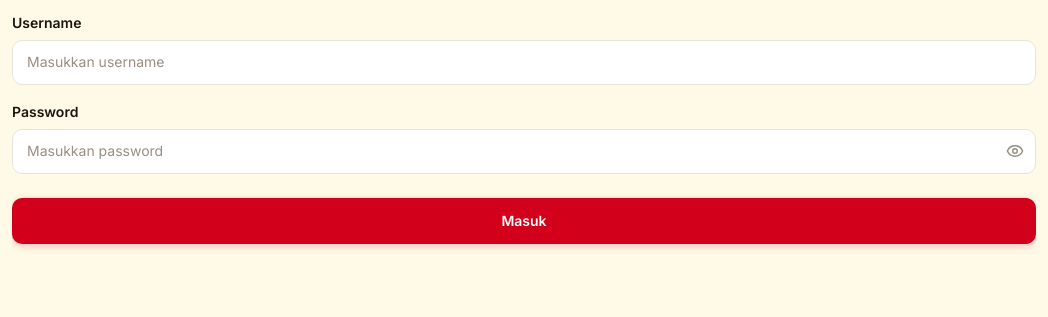
Test: LoginForm › shows validation error when submitting empty form
Step 1. Click the button "Masuk" → (524, 221), box [12,198,1036,244]
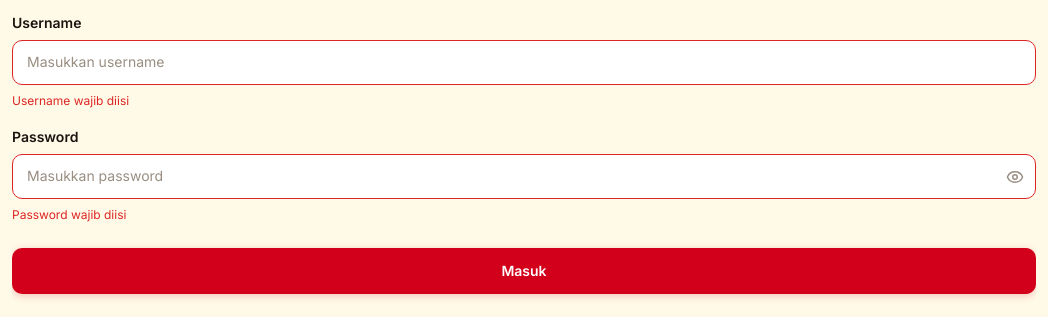
Expected: the text "Username wajib diisi" is shown, [12,93,129,108]
